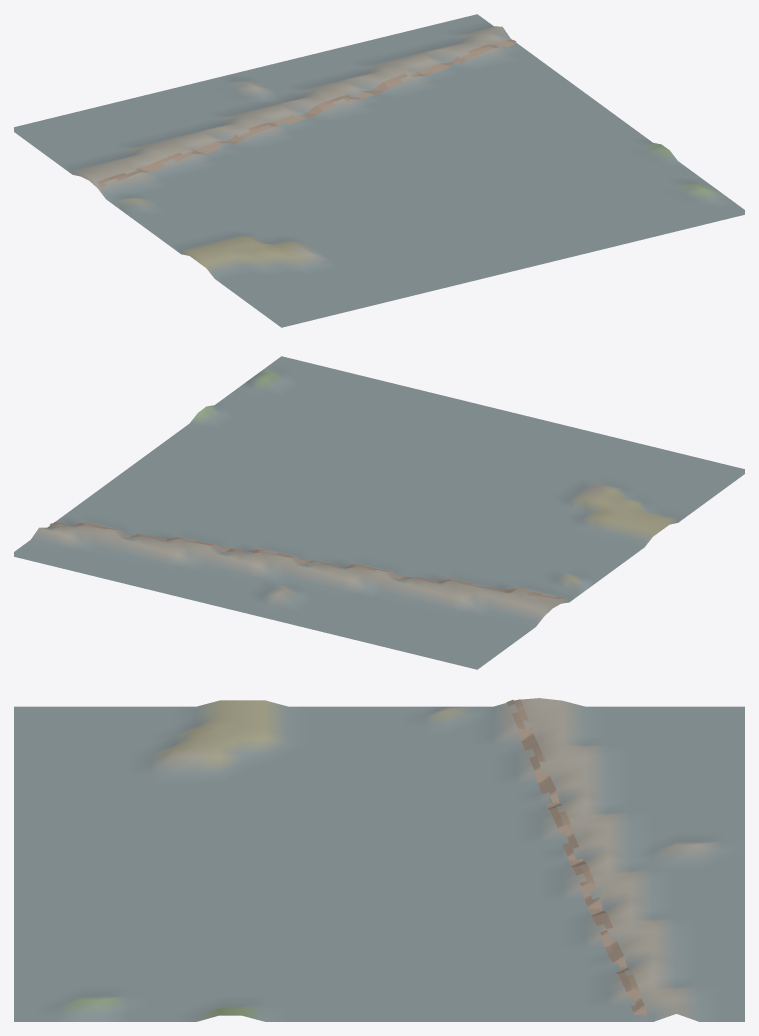
3 views of the same model, one above another, from view 1: azimuth 30°, elevation 25°; view 2: azimuth 150°, elevation 25°; view 3: azimuth 270°, elevation 25° (orthographic). The views are drawn at different scales.
Parts seen in each view (by area): view 1: prim0, prim1; view 2: prim0, prim1; view 3: prim0, prim1.
Part boxes in pixels (bbox=[...]): prim0: bbox=[14, 14, 744, 327]; prim1: bbox=[97, 40, 516, 187]; prim0: bbox=[14, 356, 744, 669]; prim1: bbox=[50, 522, 564, 599]; prim0: bbox=[14, 698, 744, 1021]; prim1: bbox=[506, 699, 646, 1015].
Size of the model in its own units: 515 by 12.16 by 512.
